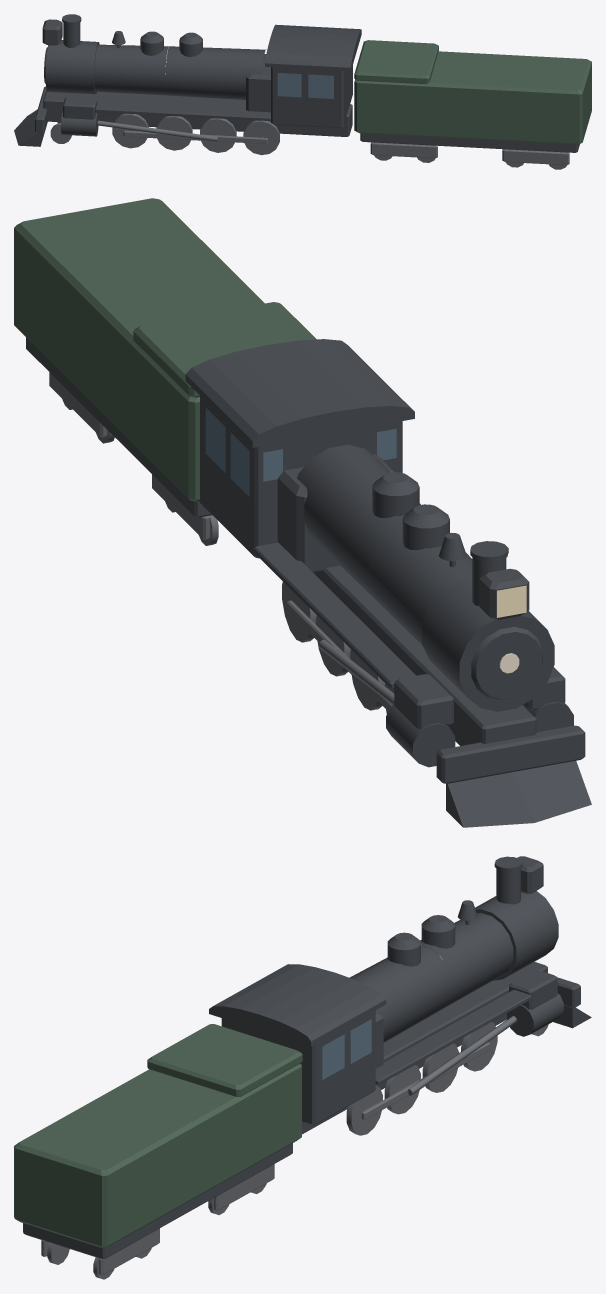
File: detail.glb
3 views of the same model, one above another, from view 1: azimuth 30°, elevation 25°; view 2: azimuth 150°, elevation 25°; view 3: azimuth 270°, elevation 25° (orthographic). The views are drawn at different scales.
Visible parts, largest first — view 1: gainesville-midland-no-301; view 2: gainesville-midland-no-301; view 3: gainesville-midland-no-301.
Boxes of the visible parts, box(x1,y1,x2,y2) form: gainesville-midland-no-301: box(14, 14, 591, 169); gainesville-midland-no-301: box(14, 198, 591, 827); gainesville-midland-no-301: box(14, 856, 591, 1279).
Bounding box in the file's own units: 18.42 × 4.78 × 14.83.
